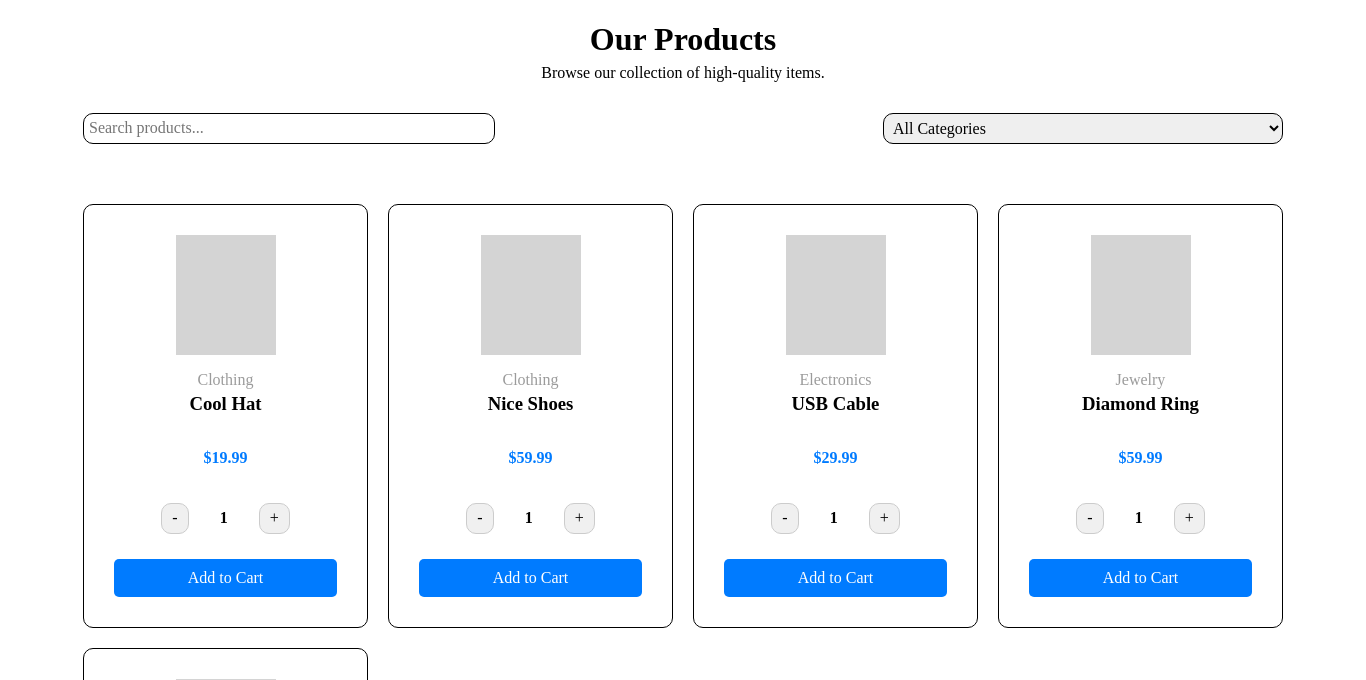
Test: handleSearchChange › filters items based on search input
Expected: the heading "Cool Hat" is shown, [189,393,262,414]
Expected: the heading "Nice Shoes" is shown, [488,393,573,414]
Note: Type into the search input
Type "hat" into the field labelled "Search products..." at (289, 128), box [83,113,495,144]
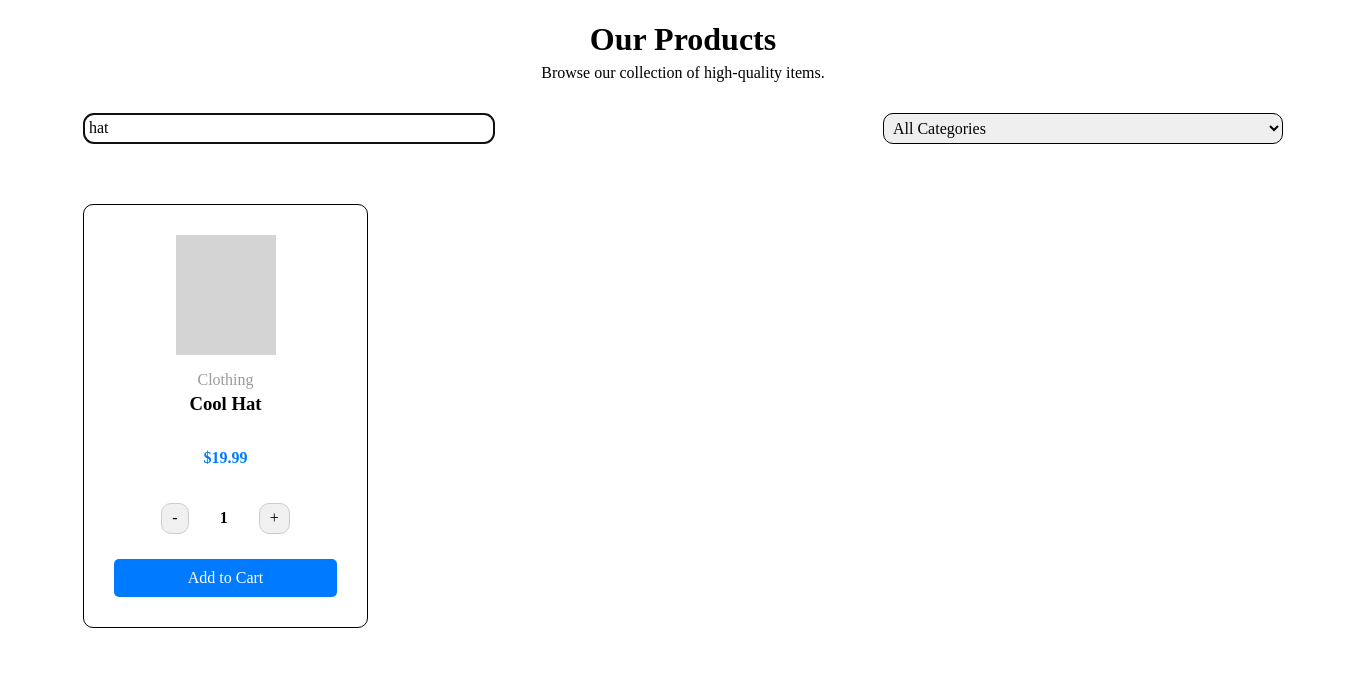
Expected: the heading "Cool Hat" is shown, [189,393,262,414]
Expected: the heading "Nice Shoes" is gone
